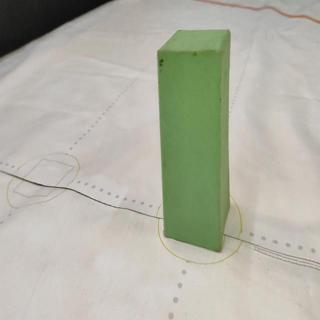greenbox: (157, 29, 229, 253)
